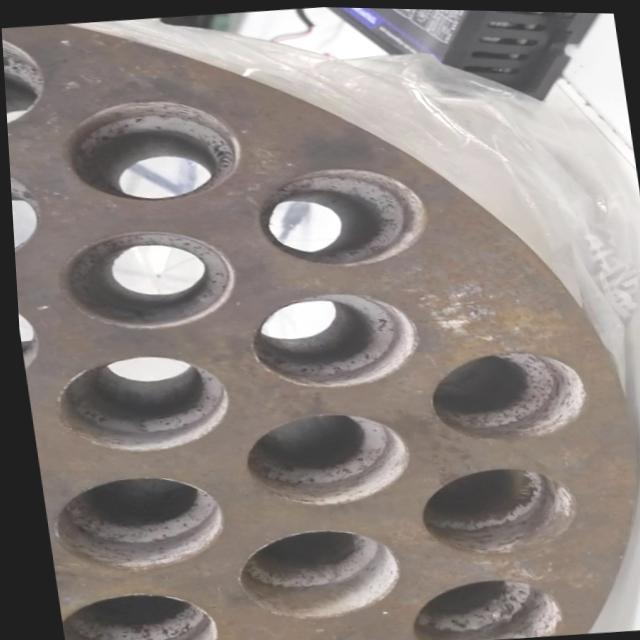Hole: (55, 89, 245, 208), (51, 220, 238, 335), (44, 345, 231, 459), (249, 157, 430, 271), (40, 467, 223, 577), (239, 283, 419, 392), (234, 403, 409, 510), (224, 520, 397, 624), (417, 341, 589, 444), (407, 458, 577, 558), (398, 568, 558, 640), (50, 583, 213, 640), (1, 24, 46, 135), (7, 159, 44, 264), (13, 289, 39, 383), (213, 630, 398, 640)
